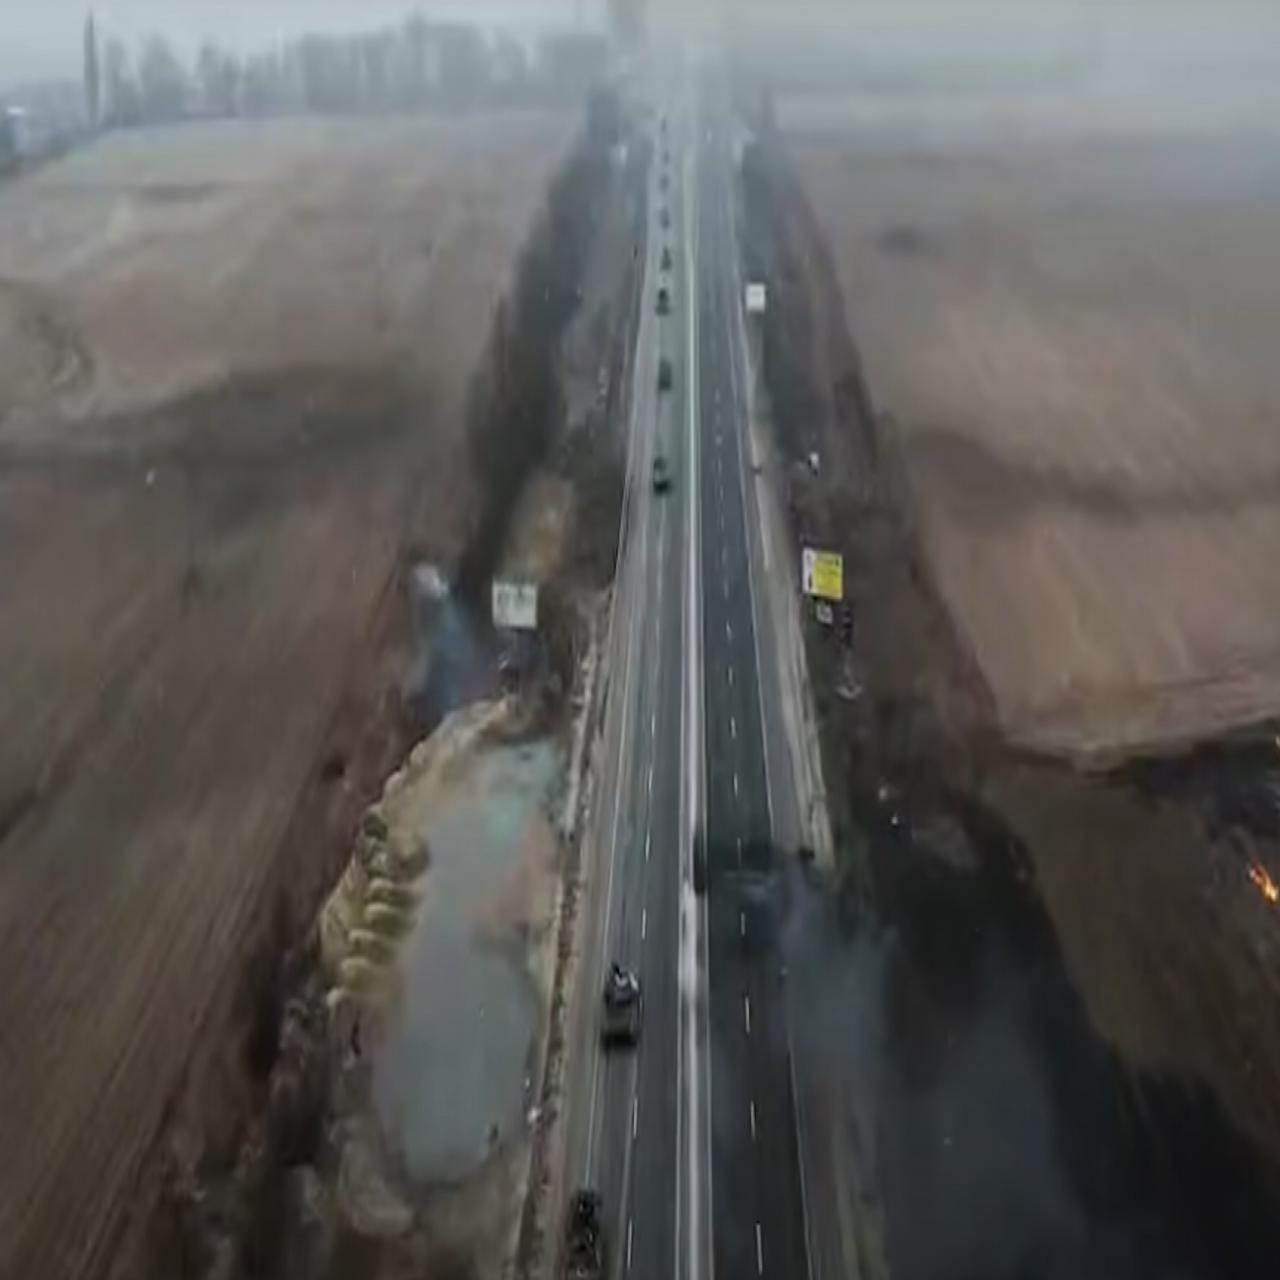MIL_Veh: (552, 1180, 610, 1276), (590, 960, 646, 1049)
